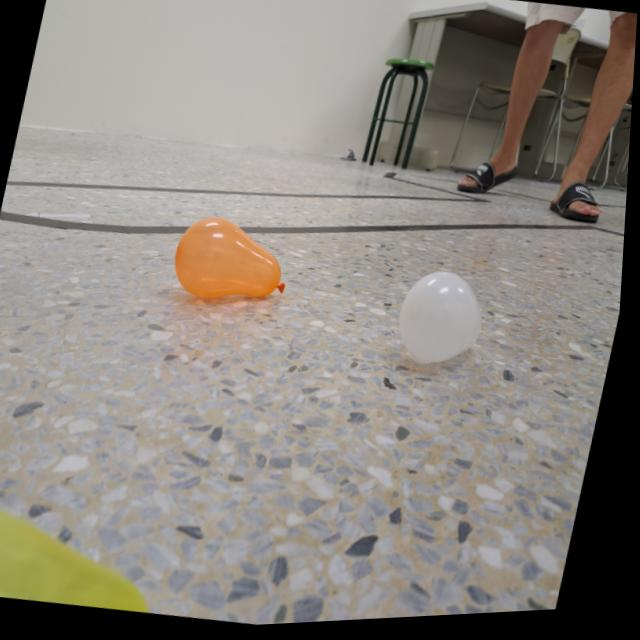other: (0, 482, 206, 627), (169, 210, 300, 316), (393, 267, 501, 379)
